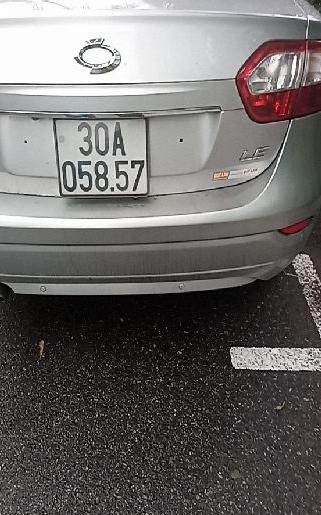Plate-iWeP: (53, 116, 150, 198)
